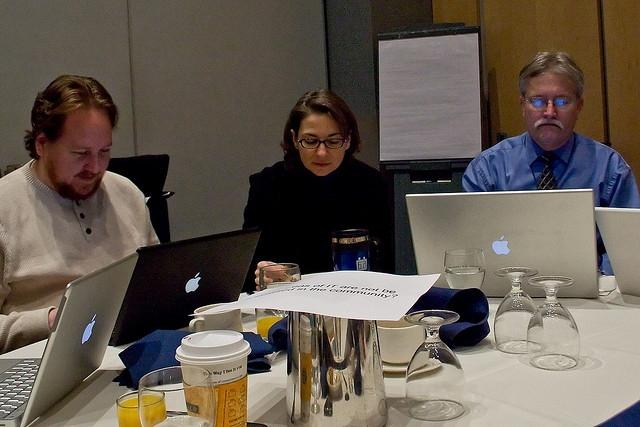apple: (82, 314, 96, 344), (492, 236, 510, 255), (185, 272, 201, 293)
